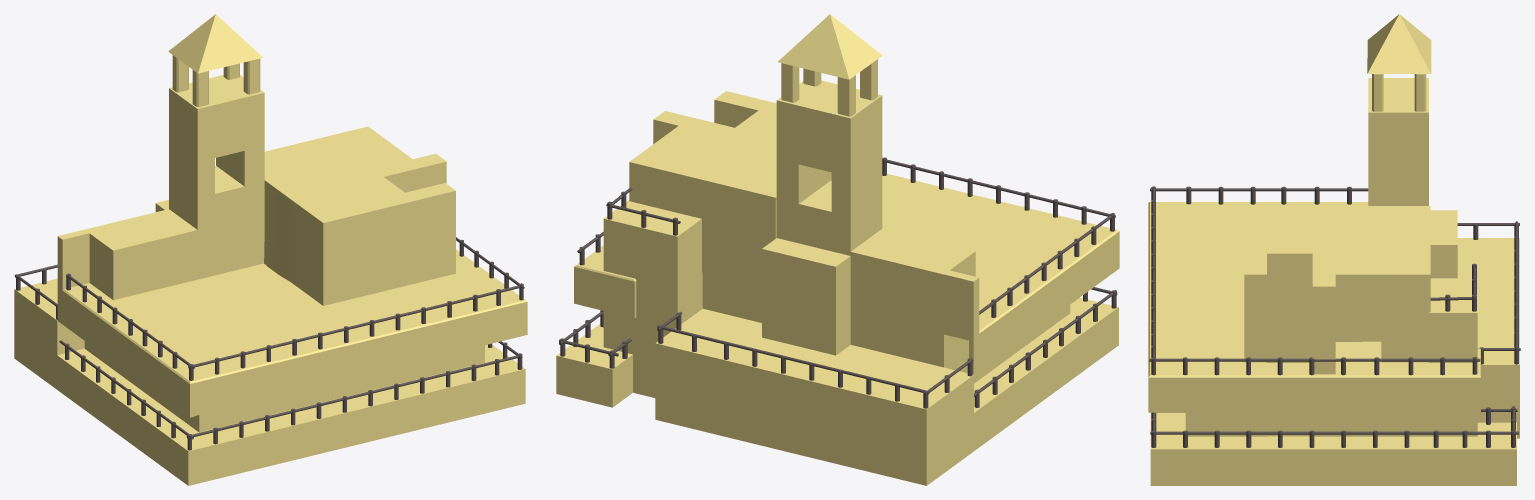
The model's file is stage001Map.fbx.
3 views of the same model, side by side, from view 1: azimuth 30°, elevation 25°; view 2: azimuth 150°, elevation 25°; view 3: azimuth 270°, elevation 25° (orthographic). The views are drawn at different scales.
Visible parts, largest first — view 1: stage001Map; view 2: stage001Map; view 3: stage001Map.
Boxes of the visible parts, left/top/right/bottom form: stage001Map: left=14, top=14, right=527, bottom=485; stage001Map: left=556, top=14, right=1119, bottom=485; stage001Map: left=1148, top=14, right=1520, bottom=485.
Size of the model in its own units: 3407 by 3375 by 3060.
Materials: 1 (1 with a texture image).
